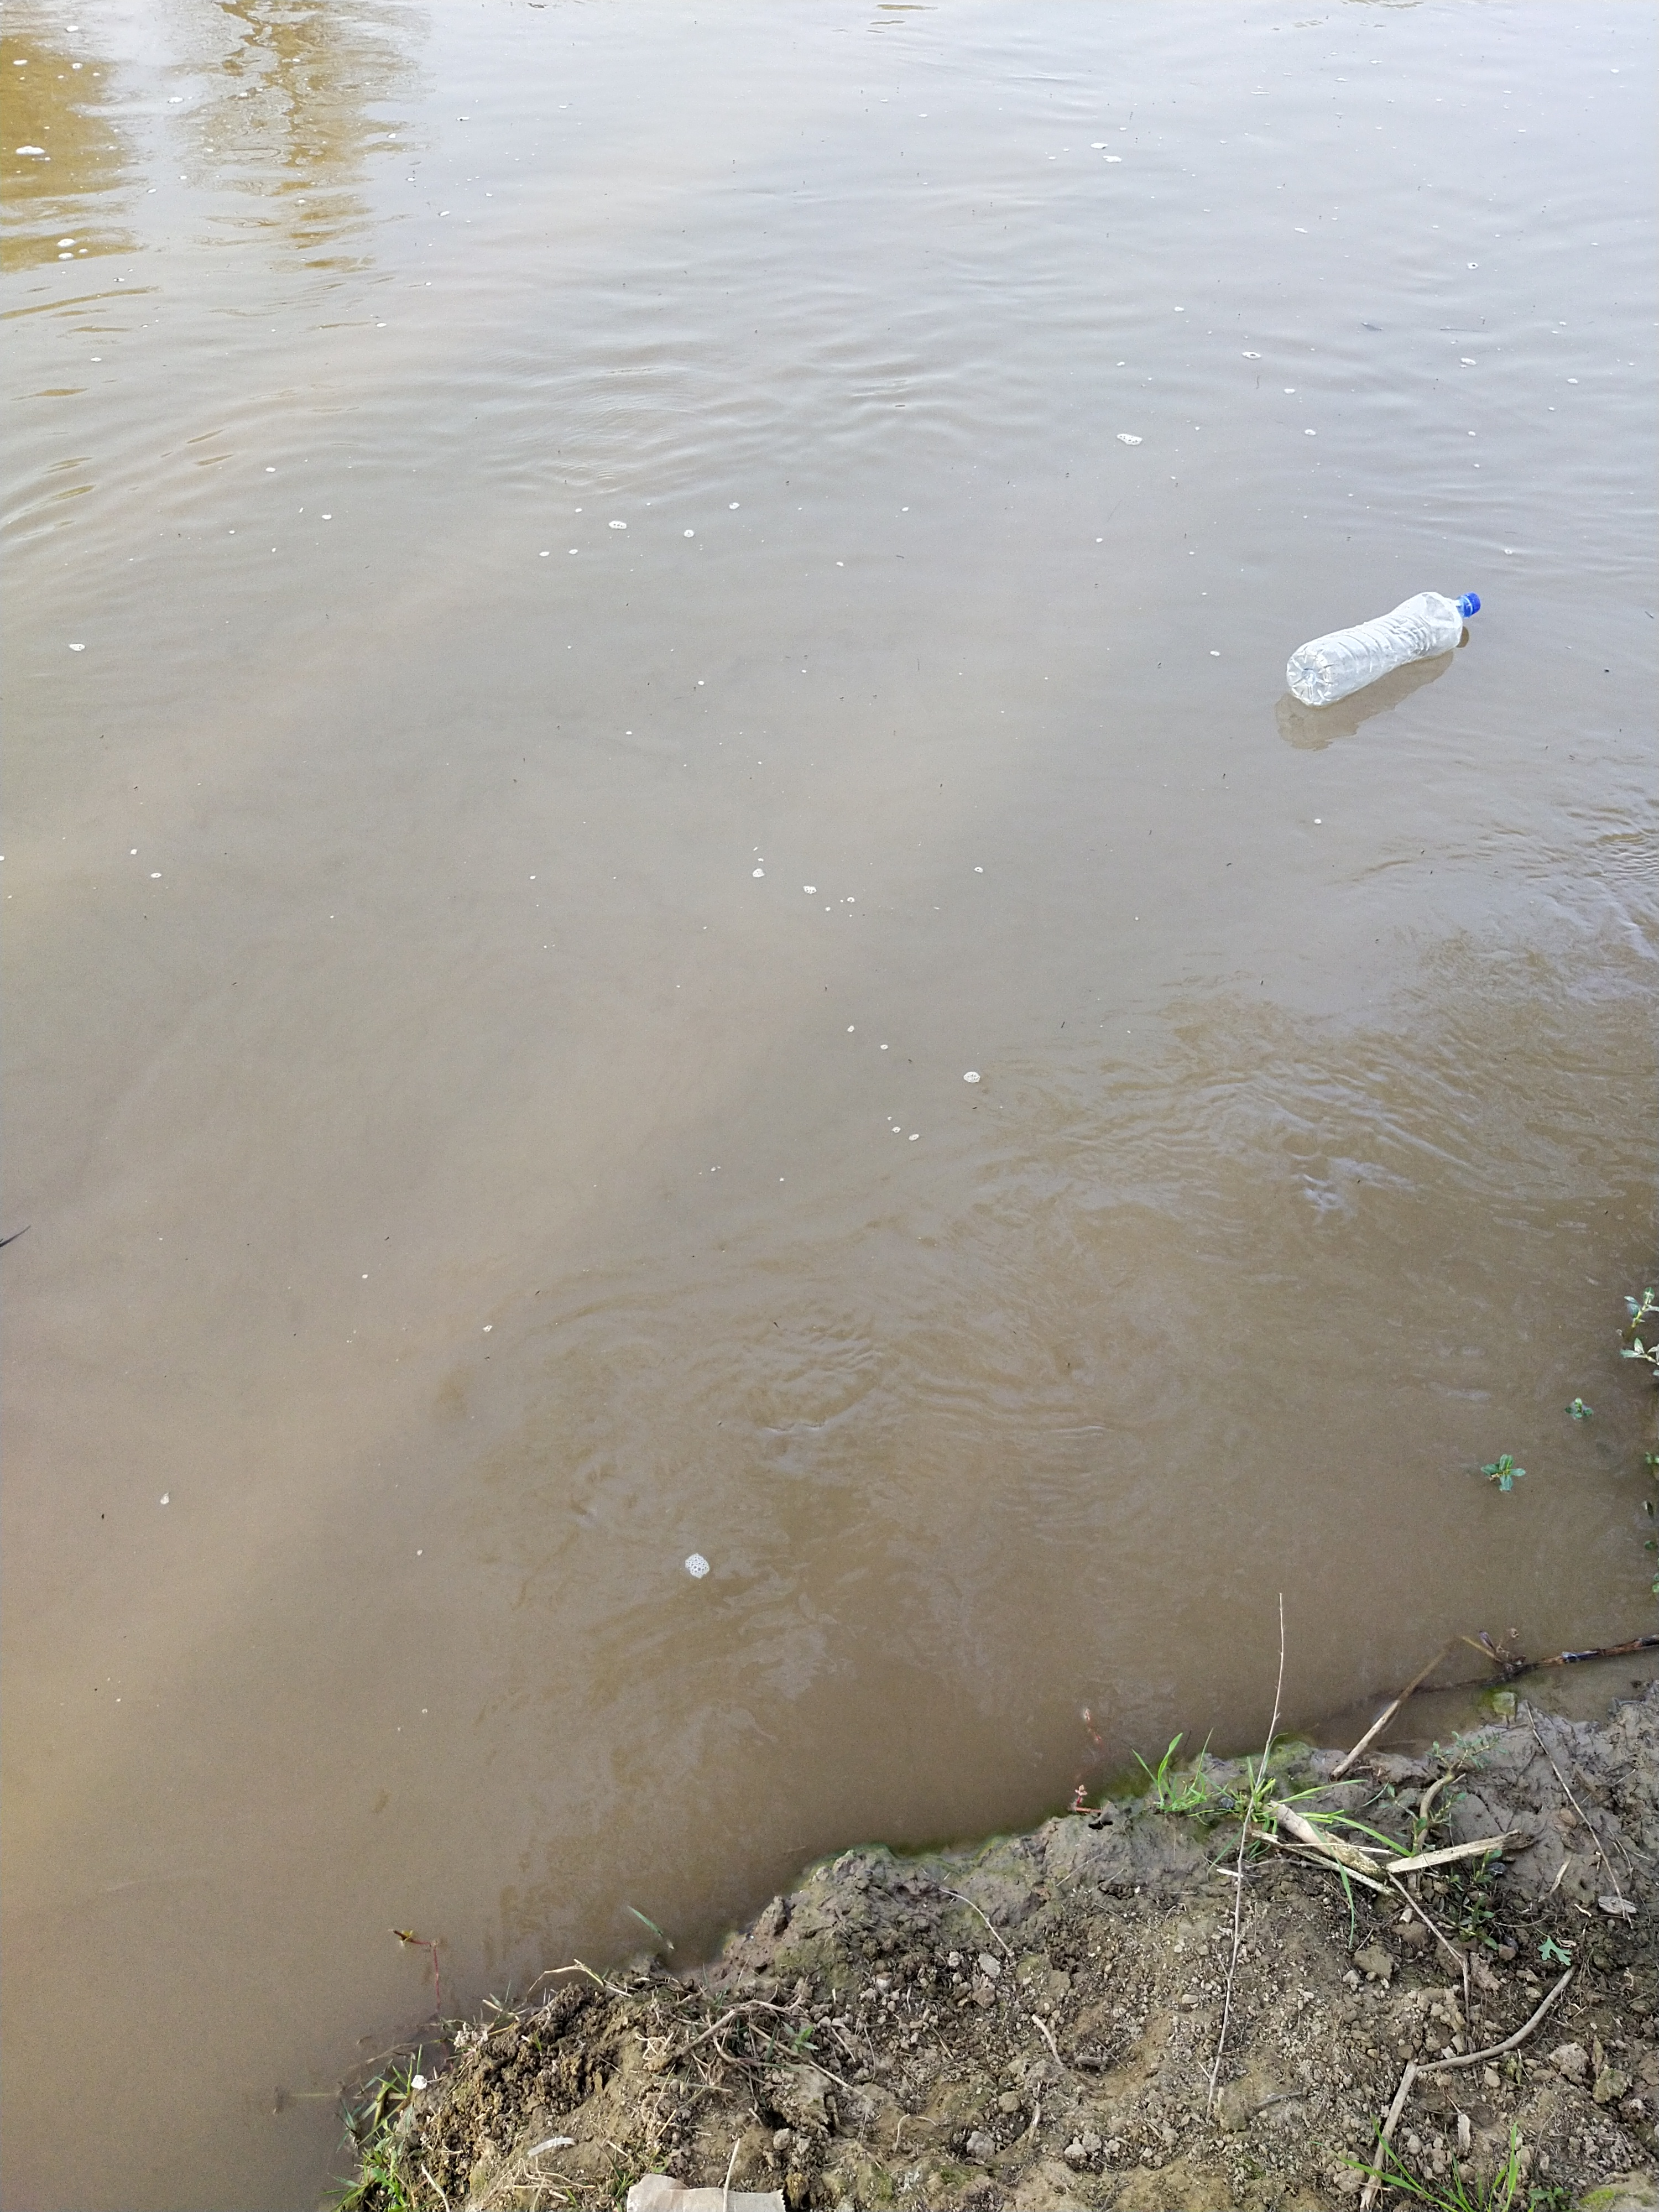Plastic Bottle: (1291, 590, 1483, 704)
